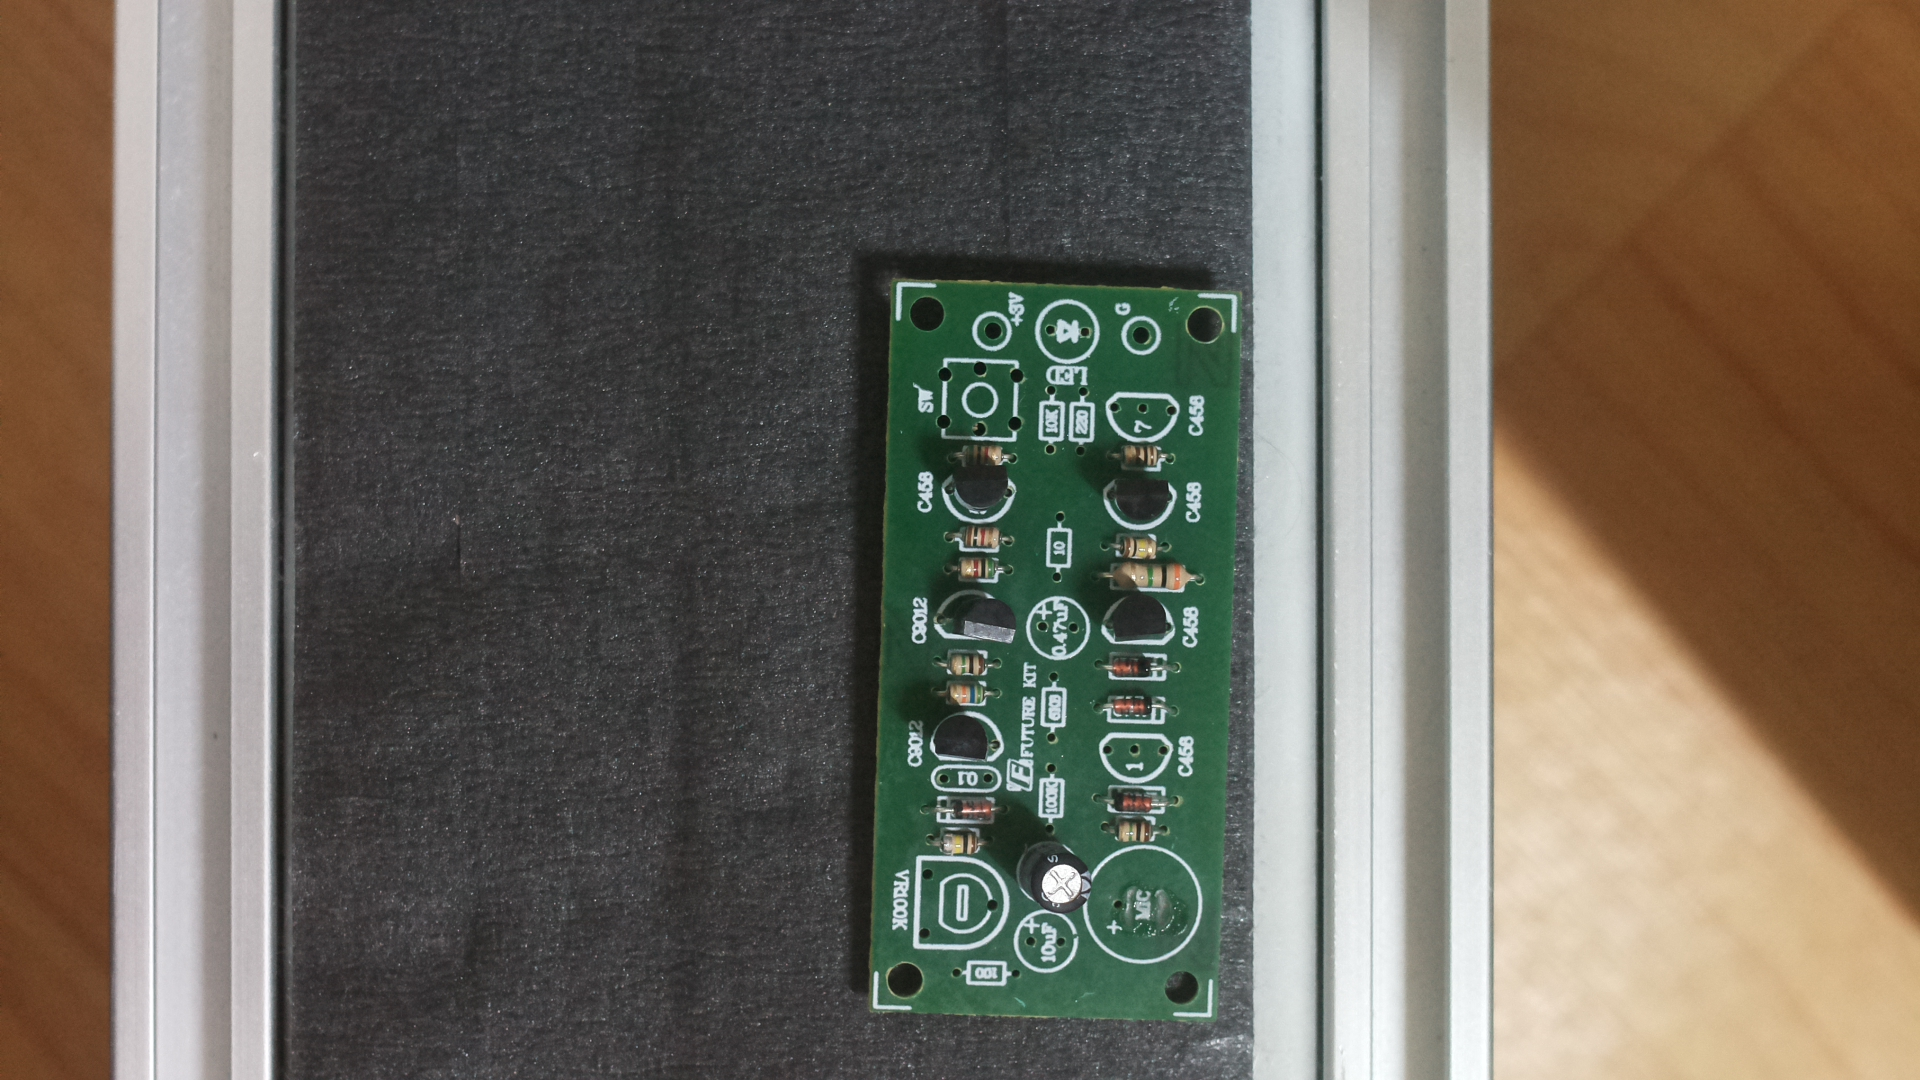A_Missing_part: (864, 239, 1244, 1035)
